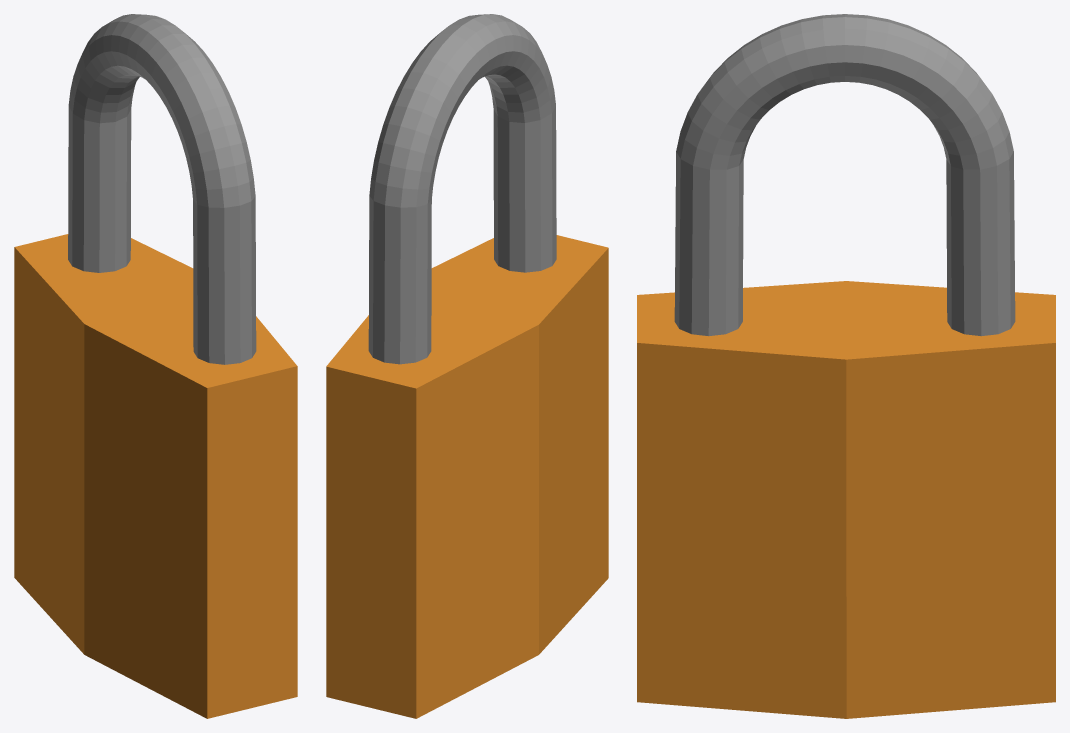
Rendered from lock.fbx.
3 renders of one model, left to right at view 1: azimuth 30°, elevation 25°; view 2: azimuth 150°, elevation 25°; view 3: azimuth 270°, elevation 25°, orthographic. The views are drawn at different scales.
Parts seen in each view (by area): view 1: Torus; view 2: Torus; view 3: Torus.
Part boxes in pixels (x1=…): Torus: x1=14, y1=14, x2=297, y2=718; Torus: x1=326, y1=14, x2=608, y2=718; Torus: x1=637, y1=14, x2=1055, y2=718.
Bounding box in the file's own units: 68.28 × 269 × 154.
